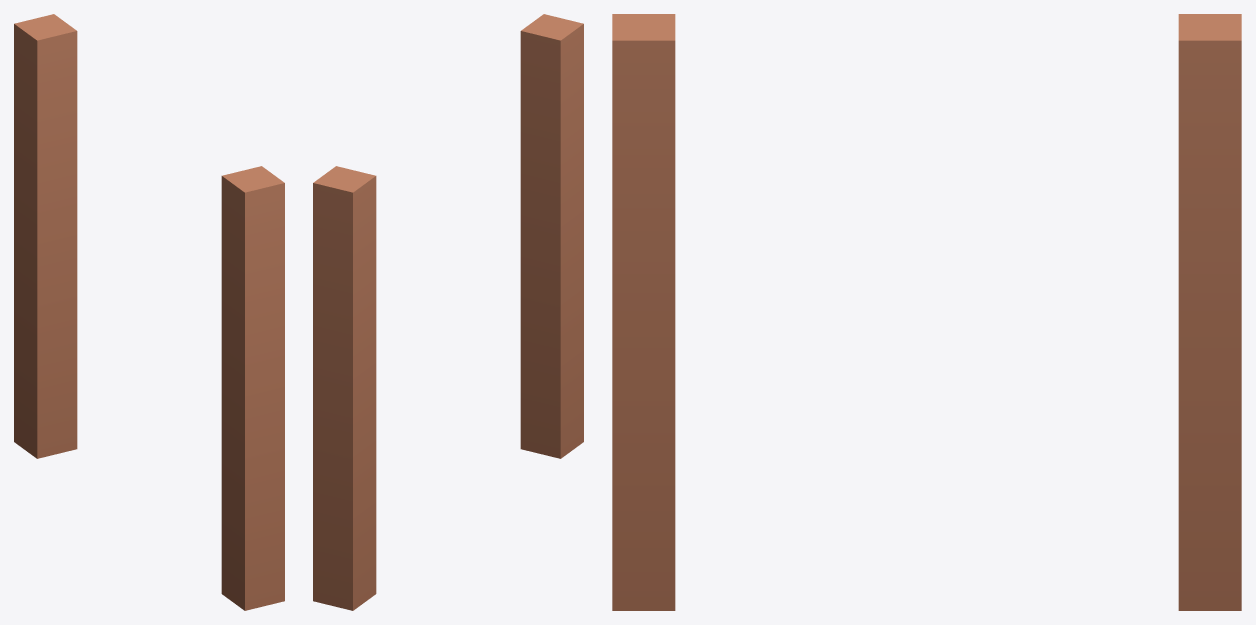
The model's file is poles.glb.
3 renders of one model, left to right at view 1: azimuth 30°, elevation 25°; view 2: azimuth 150°, elevation 25°; view 3: azimuth 270°, elevation 25°, orthographic. The views are drawn at different scales.
Parts seen in each view (by area): view 1: poles; view 2: poles; view 3: poles.
Boxes of the visible parts, <box> form: poles: <box>14,14,284,610</box>; poles: <box>313,14,583,610</box>; poles: <box>612,14,1241,610</box>.
Size of the model in its own units: 0.1 by 1 by 1.
Materials: 1 (1 with a texture image).
